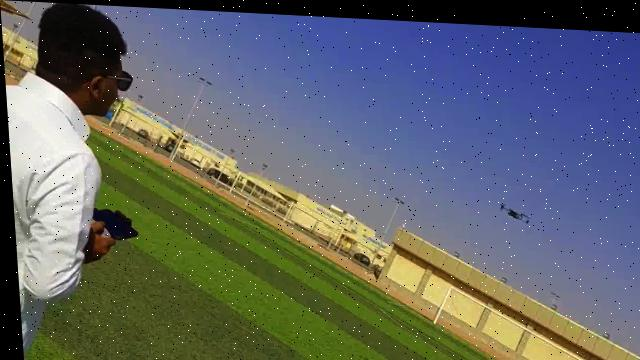drone: (493, 185, 527, 224)
